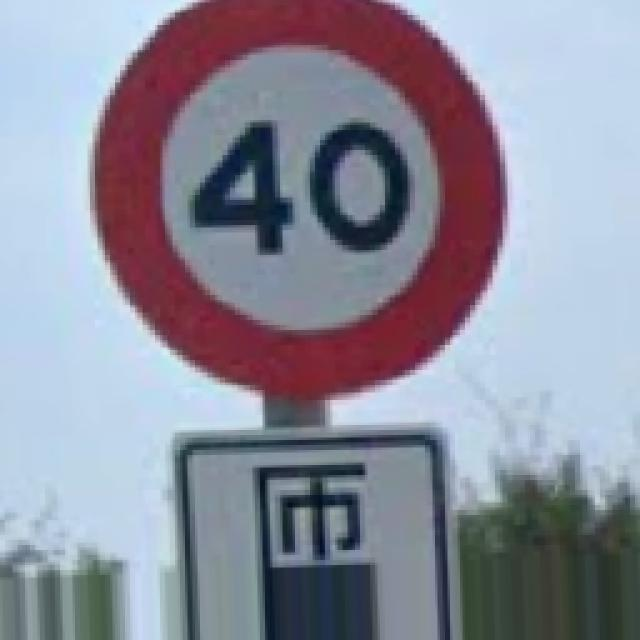Speed Limit -40-: (95, 0, 505, 398)
